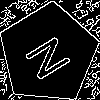N: (23, 29, 81, 84)
